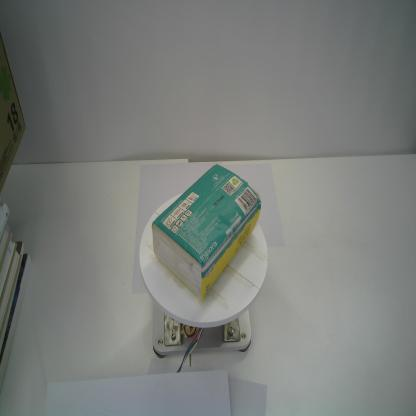Tissue: (151, 164, 261, 302)
